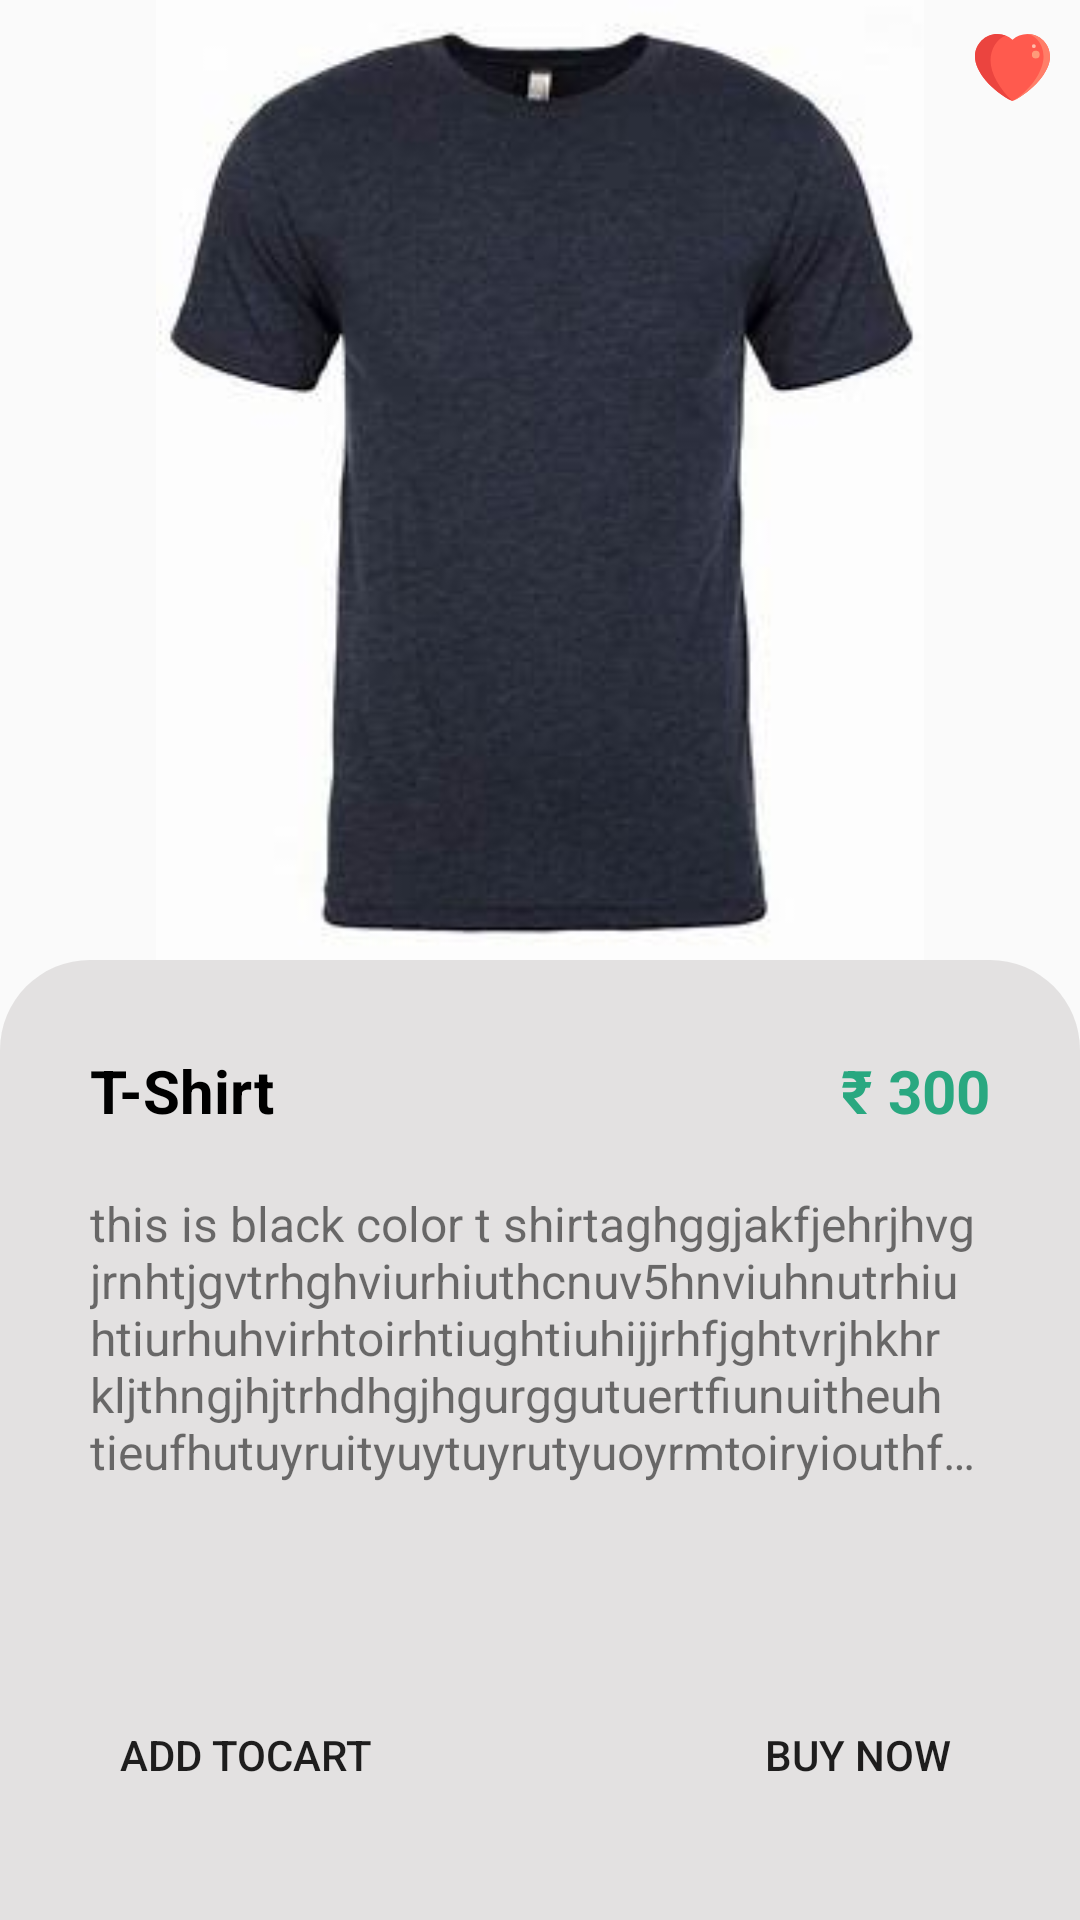

Locate icon controls on the screen. Image size 1080 × 1920, boxes as bbox(x1, y1, x2, y2).
redheart: bbox(975, 34, 1050, 101)
